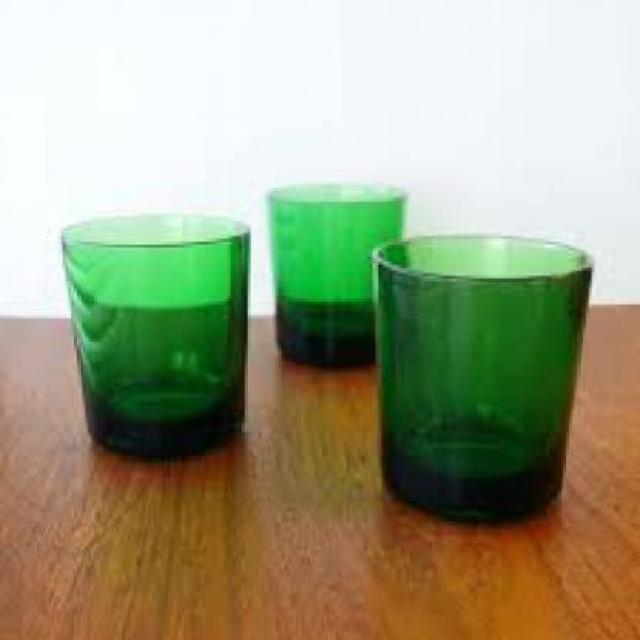GLASS: (367, 230, 588, 515), (60, 210, 245, 458), (268, 185, 406, 368)
